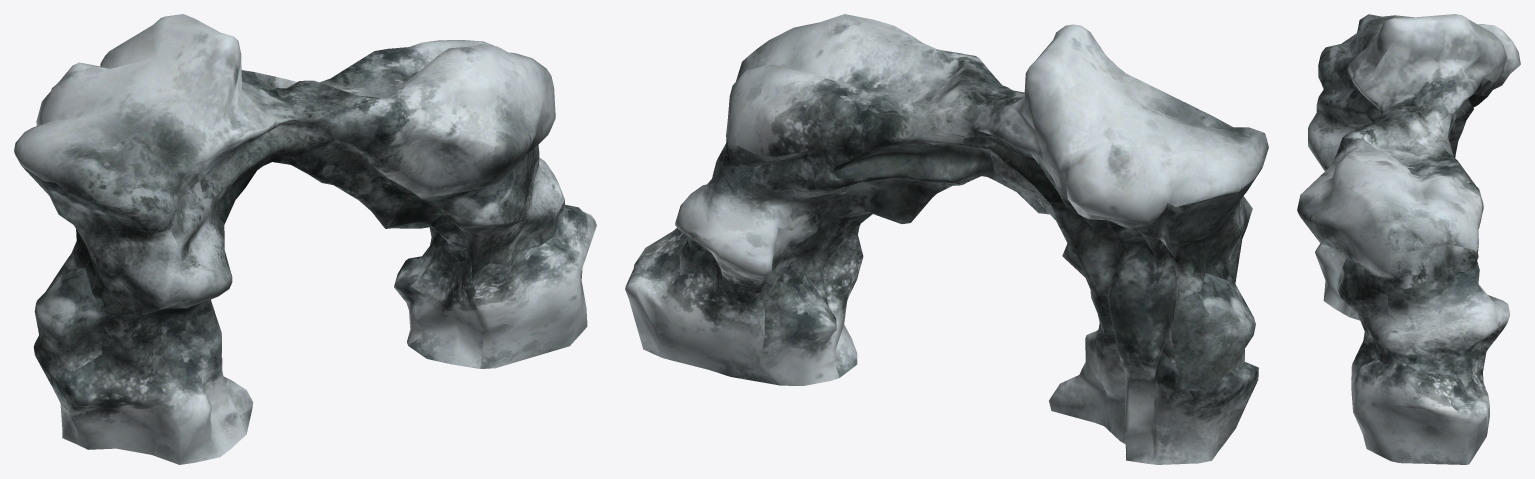
File: S_Rock_White041.FBX
The picture shows the model from 3 angles, left to right: view 1: azimuth 30°, elevation 25°; view 2: azimuth 150°, elevation 25°; view 3: azimuth 270°, elevation 25°; orthographic projection. The views are drawn at different scales.
Visible parts, largest first — view 1: S_Rock_White041; view 2: S_Rock_White041; view 3: S_Rock_White041.
Boxes of the visible parts, box(x1,y1,x2,y2) form: S_Rock_White041: box(14, 14, 596, 464); S_Rock_White041: box(625, 14, 1268, 464); S_Rock_White041: box(1297, 14, 1520, 464).
Bounding box in the file's own units: 1592 × 667 × 996.
